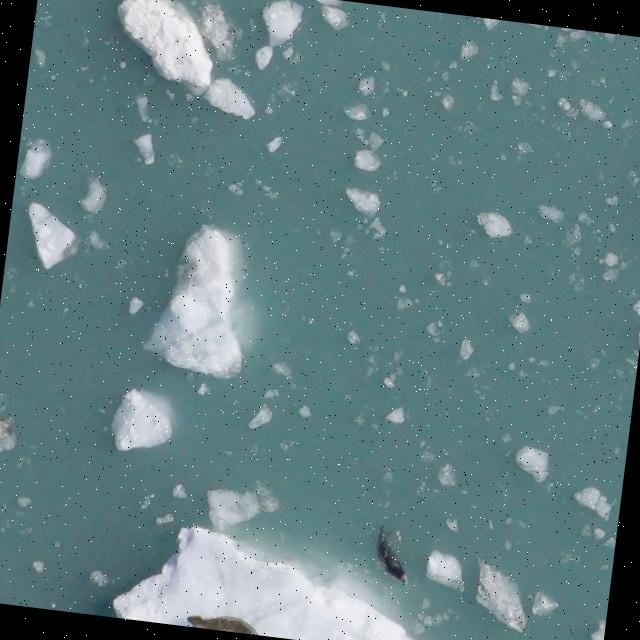seal: (181, 605, 269, 636)
